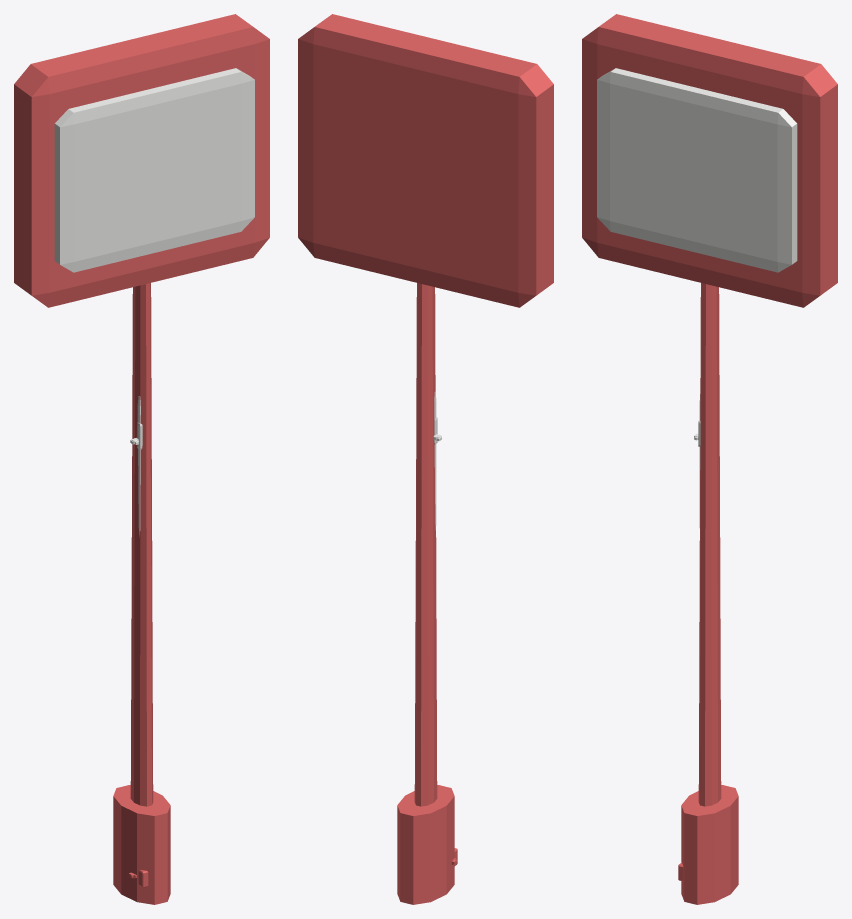
The model's file is b02_stop_sign.glb.
3 renders of one model, left to right at view 1: azimuth 30°, elevation 25°; view 2: azimuth 150°, elevation 25°; view 3: azimuth 330°, elevation 25°, orthographic.
Parts seen in each view (by area): view 1: b02_stop_sign; view 2: b02_stop_sign; view 3: b02_stop_sign.
Part boxes in pixels (bbox=[...]): b02_stop_sign: bbox=[14, 14, 269, 904]; b02_stop_sign: bbox=[298, 14, 553, 904]; b02_stop_sign: bbox=[582, 14, 837, 904].
Bounding box in the file's own units: 0.721 × 2.44 × 0.201.
